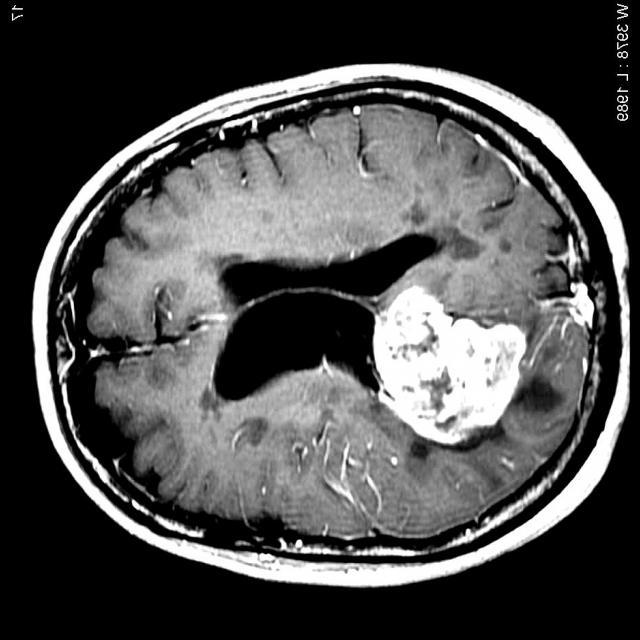tumor: (367, 284, 524, 446)
